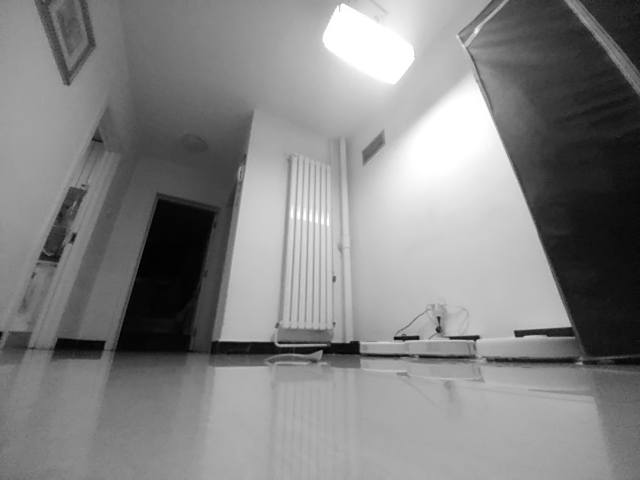others: (266, 347, 323, 364)
